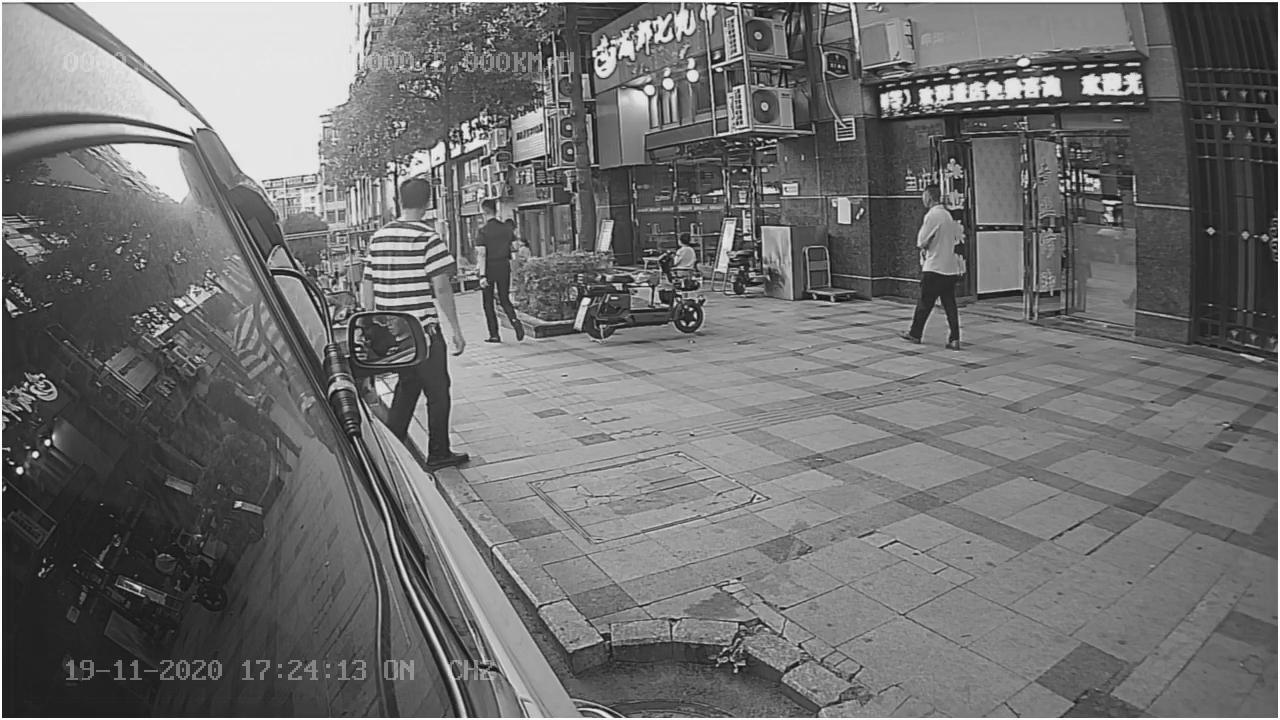person: (343, 170, 464, 312), (898, 180, 972, 355), (465, 197, 536, 351)
